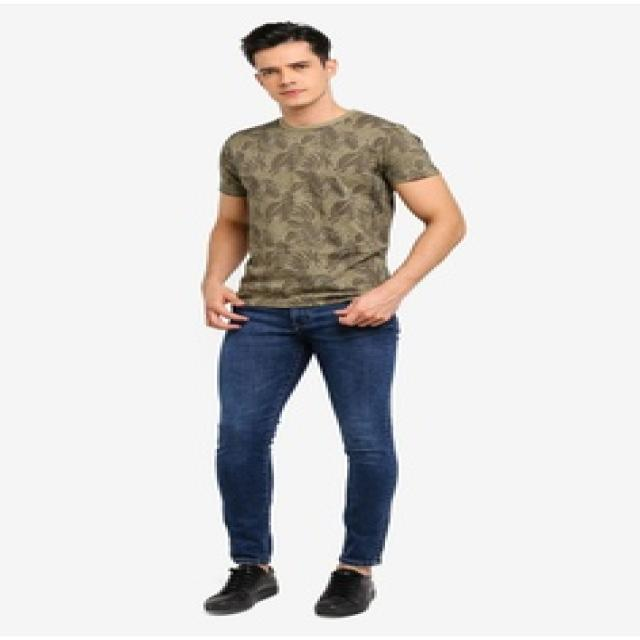human: (194, 20, 473, 627)
